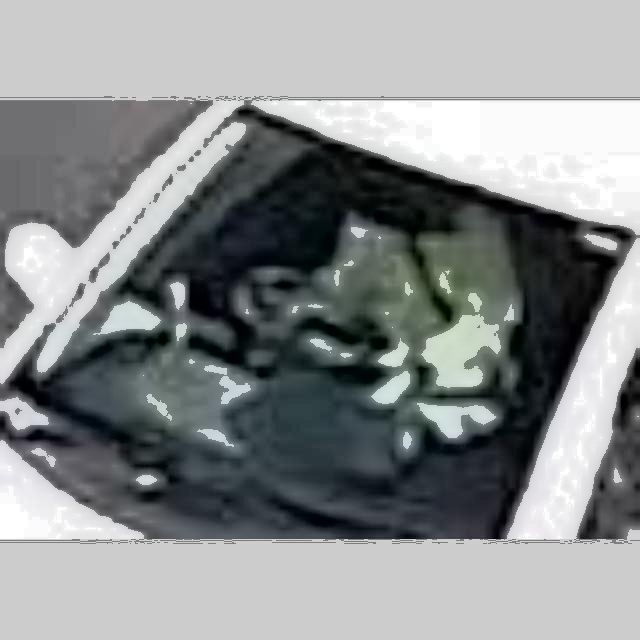pakai: (278, 178, 522, 456)
